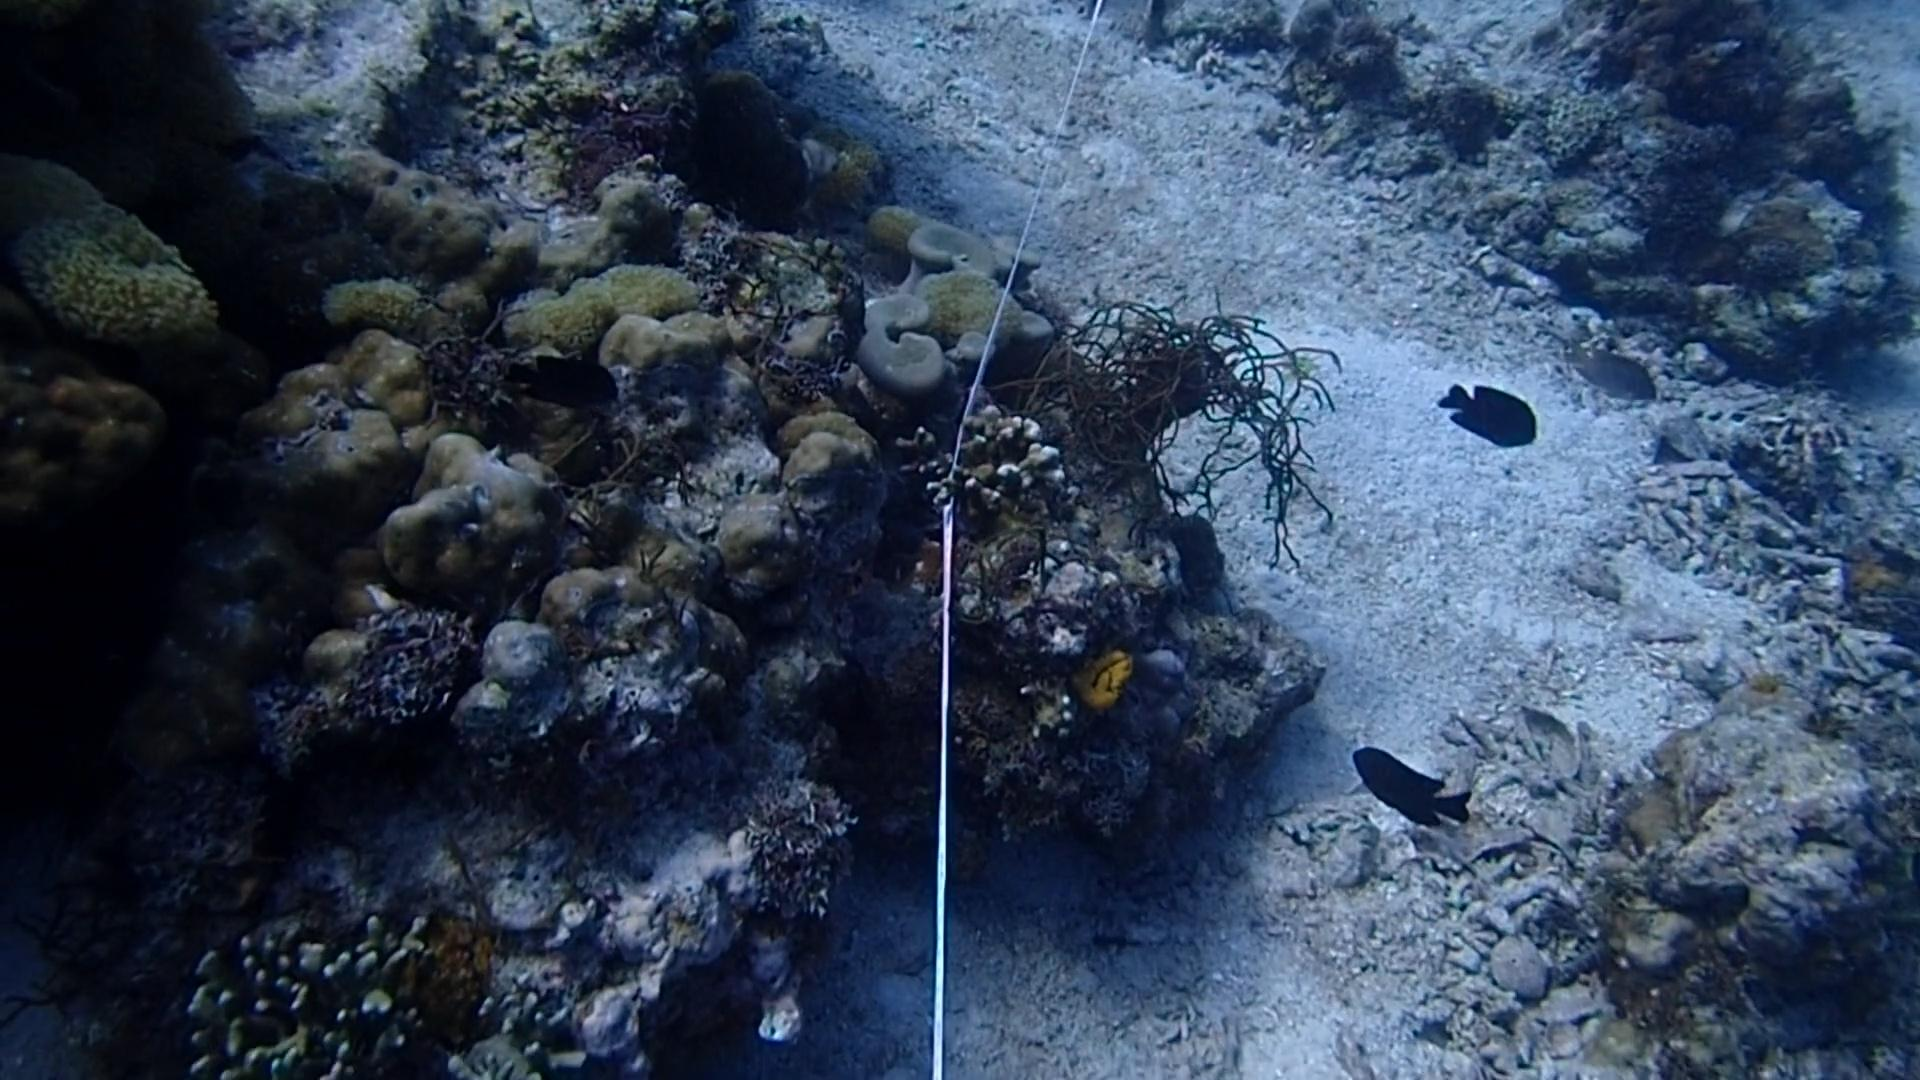Dark Fish: (1338, 728, 1469, 841), (1422, 371, 1538, 464)
Light Fish: (1567, 332, 1667, 409)
